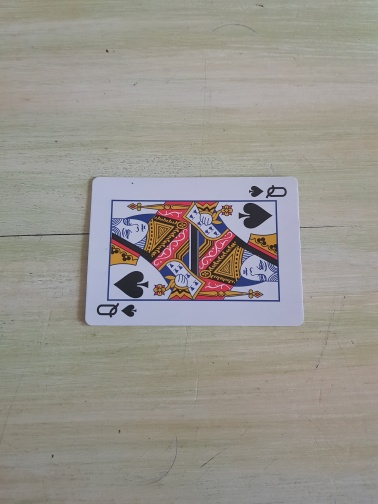queen: (85, 176, 306, 326)
